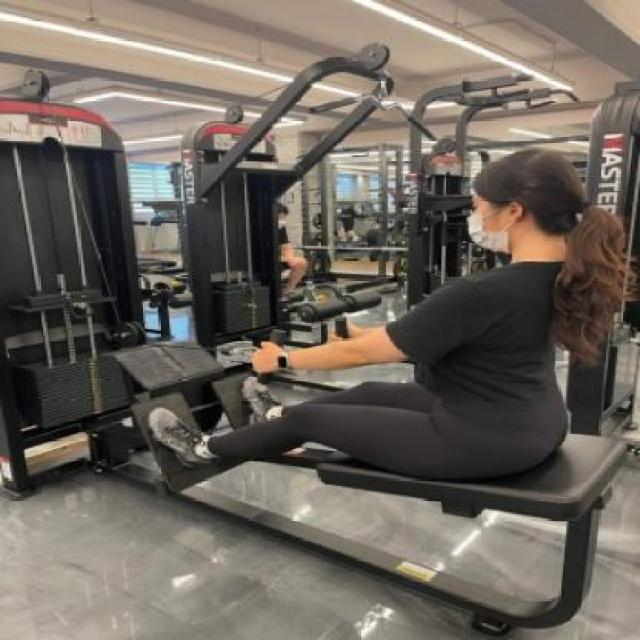Seated Cable Rows: (0, 67, 614, 636)
